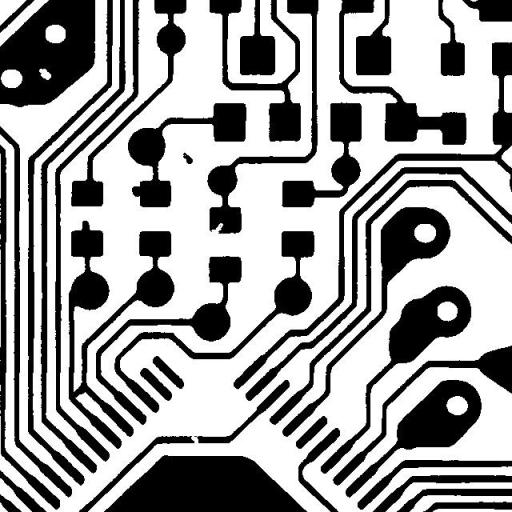copper: (175, 145, 200, 171)
mousebite: (200, 215, 230, 241)
open: (183, 428, 206, 451)
pin-hole: (32, 61, 58, 87)
short: (64, 374, 94, 404)
spur: (74, 212, 99, 242), (124, 178, 151, 204)
